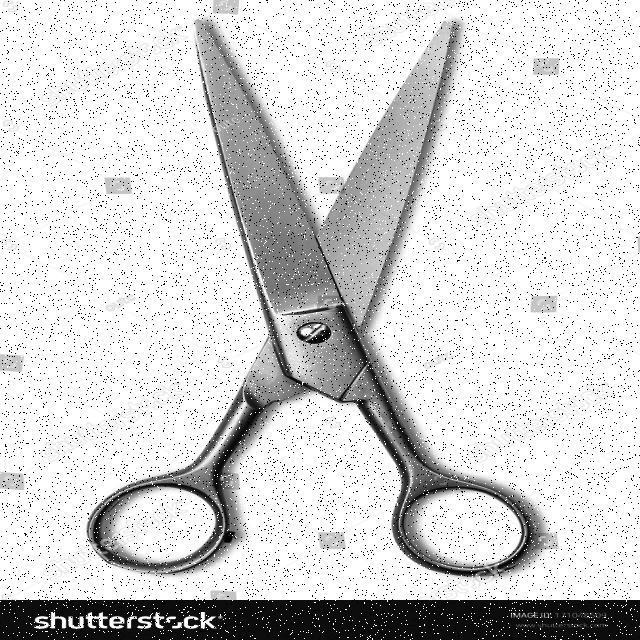scissors: (77, 11, 546, 584)
